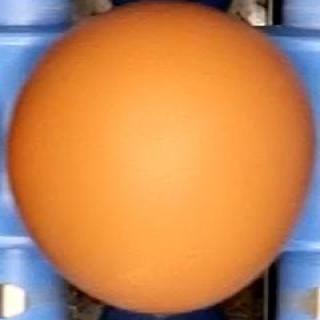Telur: (11, 1, 311, 313)
